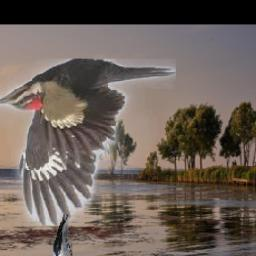Woodpecker: (0, 60, 176, 227), (48, 211, 71, 256)
